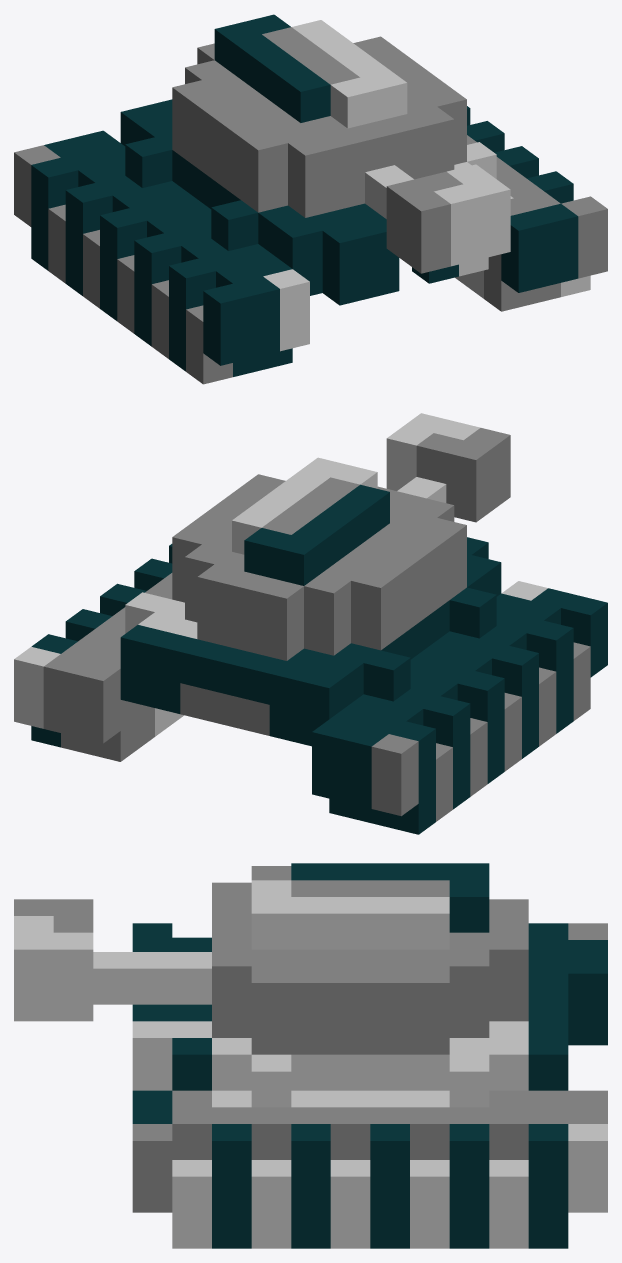
The model's file is armored_gray_tank.glb.
3 views of the same model, one above another, from view 1: azimuth 30°, elevation 25°; view 2: azimuth 150°, elevation 25°; view 3: azimuth 270°, elevation 25° (orthographic). The views are drawn at different scales.
Parts seen in each view (by area): view 1: Object_2.016; view 2: Object_2.016; view 3: Object_2.016.
Part boxes in pixels (x1,y1,x2,y2): Object_2.016: (14,14,607,384); Object_2.016: (14,413,607,834); Object_2.016: (14,863,607,1248).
Bounding box in the file's own units: 13 × 7 × 15.
1 material, 1 textured.
